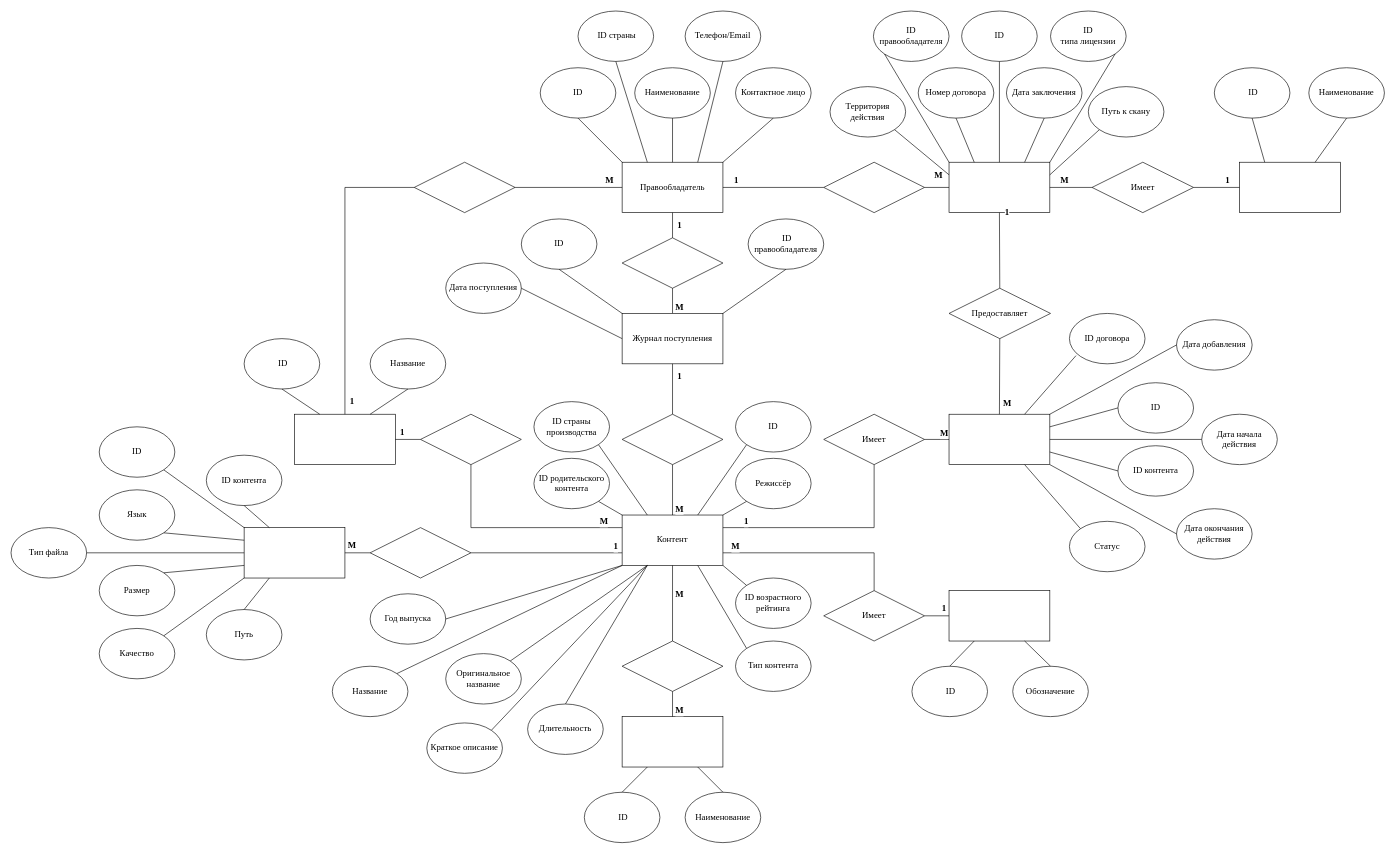
This 1395x854 diagram has some shape labels left out. Each missing label, with the centre of its shape:
"Включает" belongs at point 420,552.
"Возрастной рейтинг" belongs at point 999,615.
"Договор" belongs at point 999,187.
"Жанр" belongs at point 672,741.
"Заключает" belongs at point 874,187.
"Зарагистрирован в" belongs at point 464,187.
"Лицензия" belongs at point 999,439.
"Медиа-файл" belongs at point 294,552.
"Относится к" belongs at point 672,665.
"Произведён в" belongs at point 470,439.
"Содержит" belongs at point 672,439.
"Страна" belongs at point 344,439.
"Тип лицензии" belongs at point 1289,187.
"Фиксирует поставку от" belongs at point 672,262.
